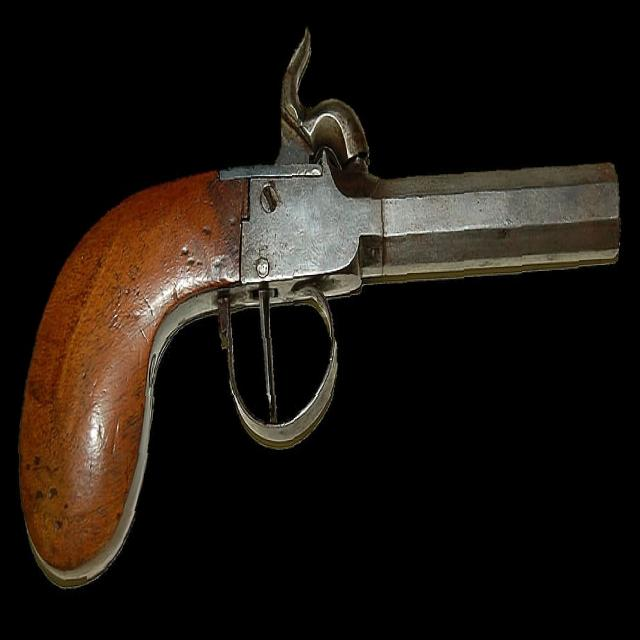gun: (5, 10, 638, 606)
